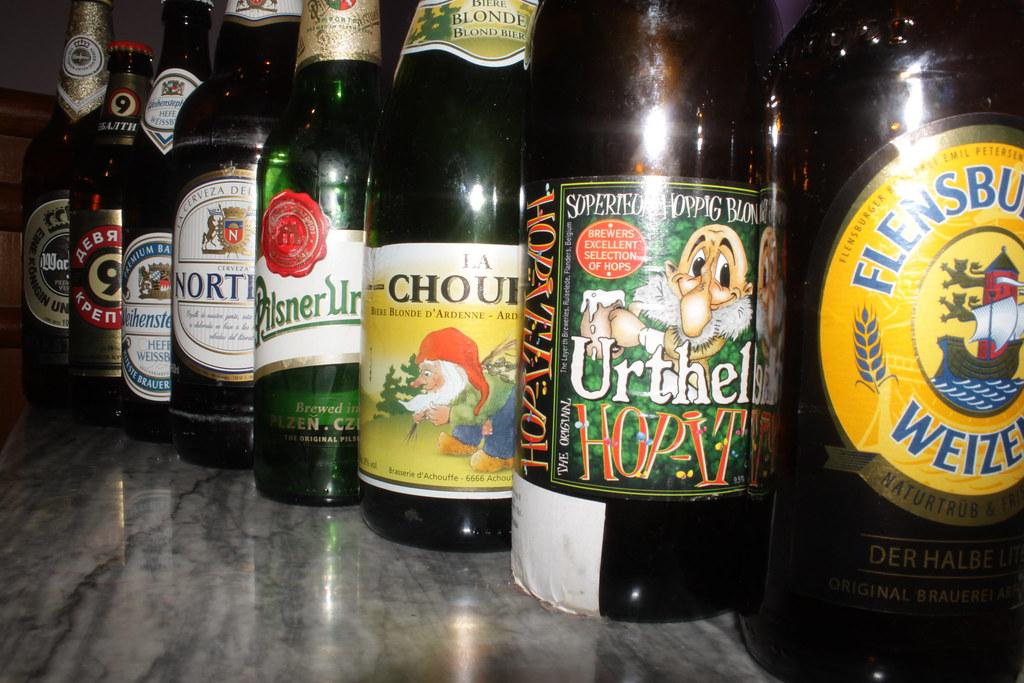bottle: (738, 1, 1024, 683), (510, 1, 782, 625), (358, 1, 544, 554), (252, 1, 385, 508), (168, 1, 304, 471), (120, 1, 217, 444), (20, 1, 117, 410), (68, 41, 156, 428)
